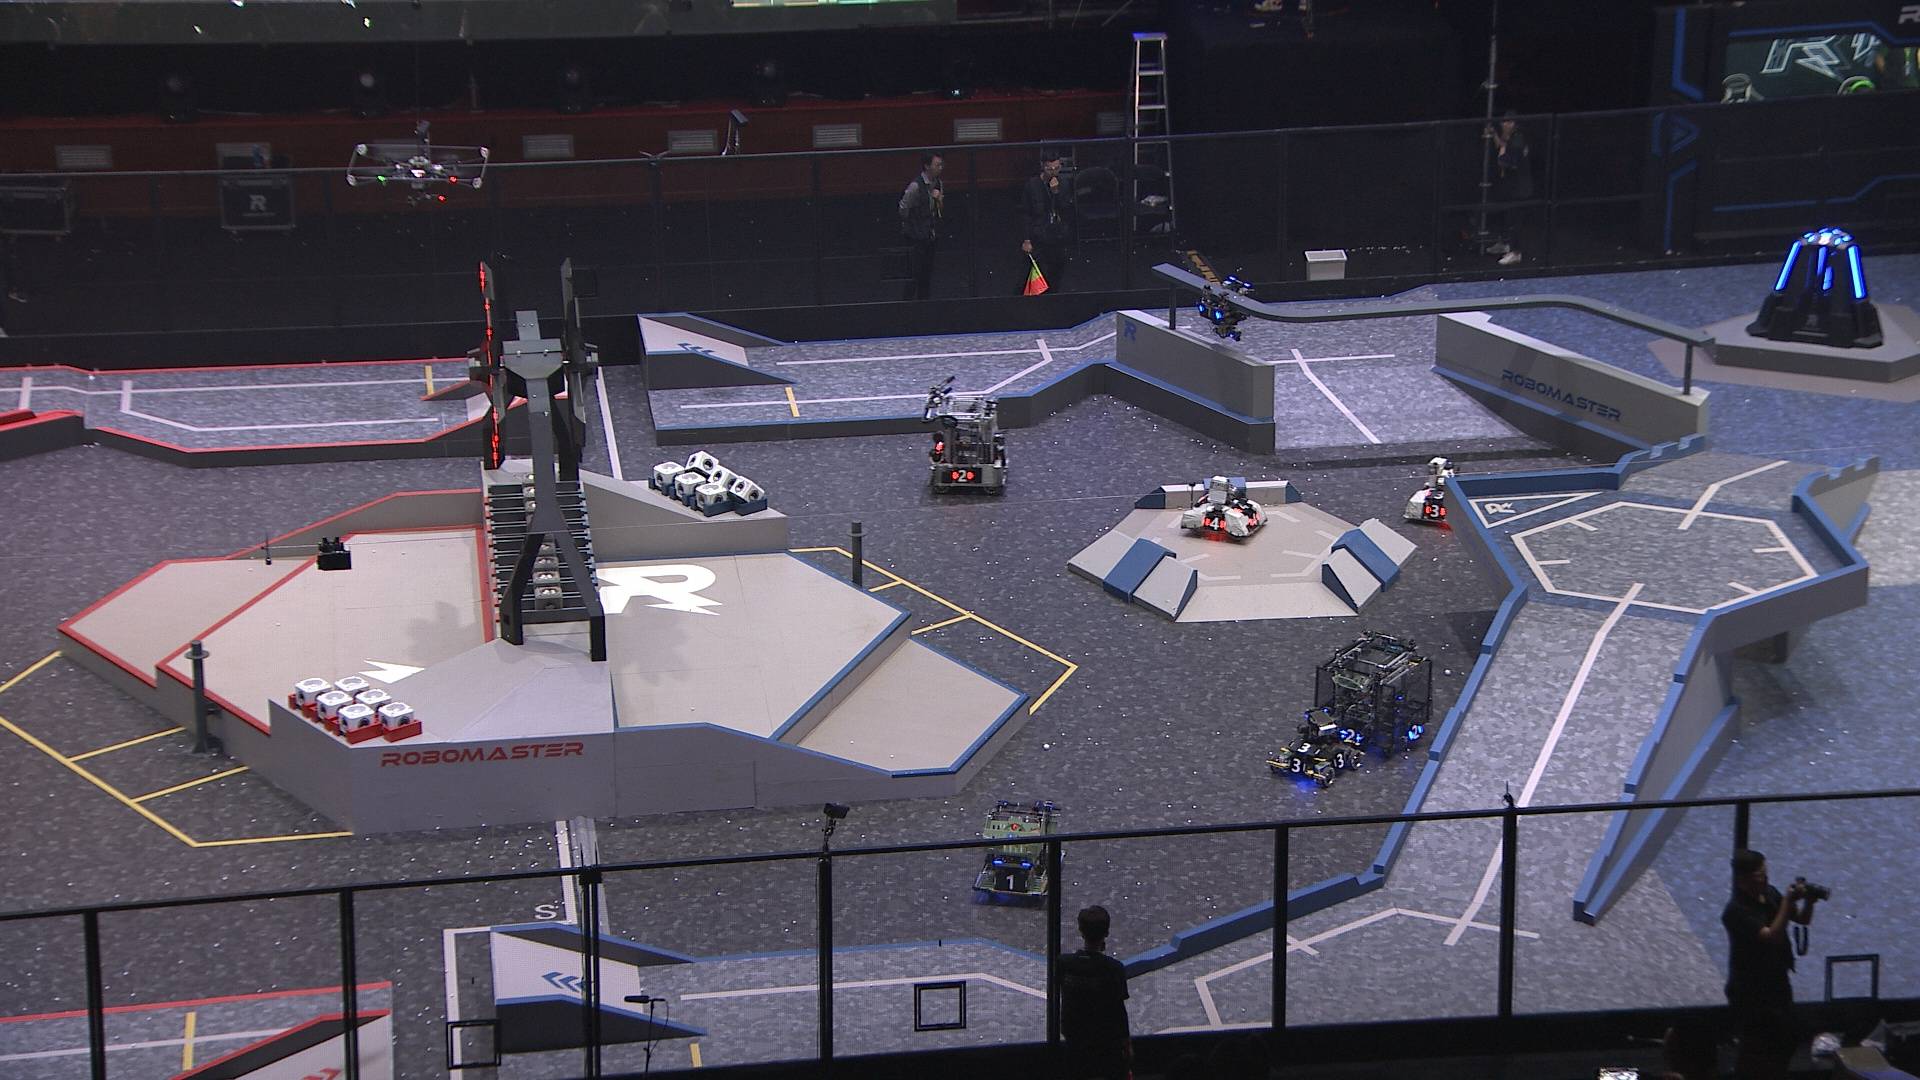armor: (1775, 239, 1801, 294), (1844, 245, 1866, 301), (992, 873, 1031, 891), (1196, 305, 1224, 324), (1807, 232, 1844, 247), (1288, 741, 1323, 756), (1812, 248, 1828, 278), (949, 467, 975, 485), (1337, 727, 1362, 744), (1406, 723, 1425, 742), (1287, 756, 1305, 777), (1203, 516, 1226, 531), (1331, 750, 1348, 770), (1424, 502, 1444, 520), (1821, 264, 1833, 291), (1425, 489, 1447, 502), (1233, 498, 1250, 514), (1247, 510, 1262, 527)
base: (1742, 229, 1884, 348)
car: (1313, 636, 1433, 757), (973, 799, 1068, 901), (922, 396, 1010, 495), (1269, 707, 1364, 789), (1179, 477, 1269, 545), (1400, 456, 1472, 527)
watcher: (1195, 276, 1255, 343)
